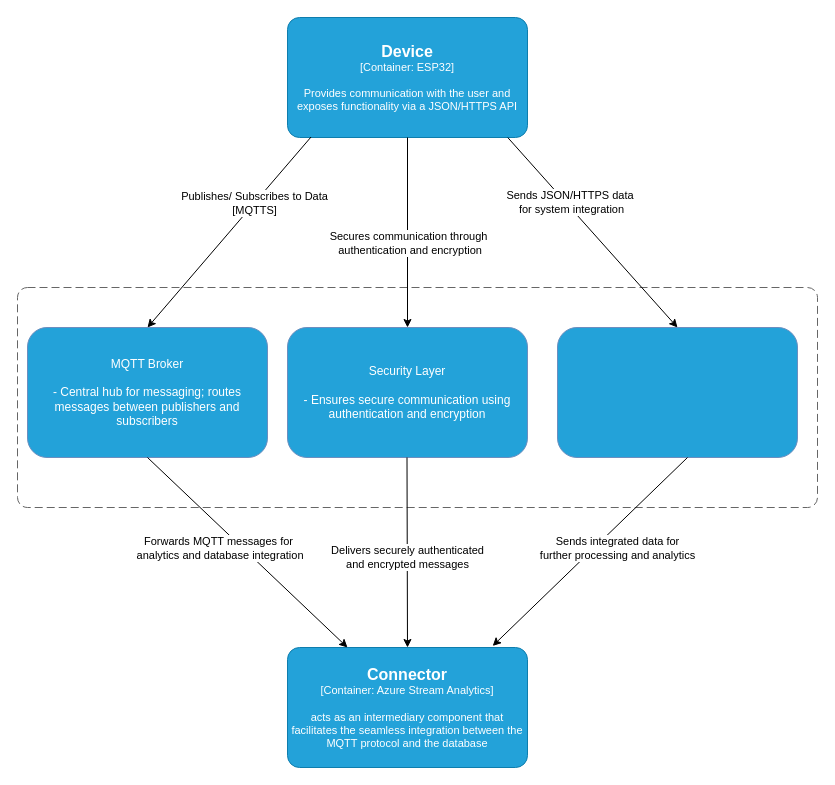
The diagram is 835 pixels wide and 785 high, and some of its shapes have lost their labels. Here are the shapes that lost their labels. From the top down, the box of each, then its label:
(16, 286, 818, 508): MQTT [Container]
(556, 326, 798, 458): Integration Layer - Connects MQTT messages to other parts of the system
